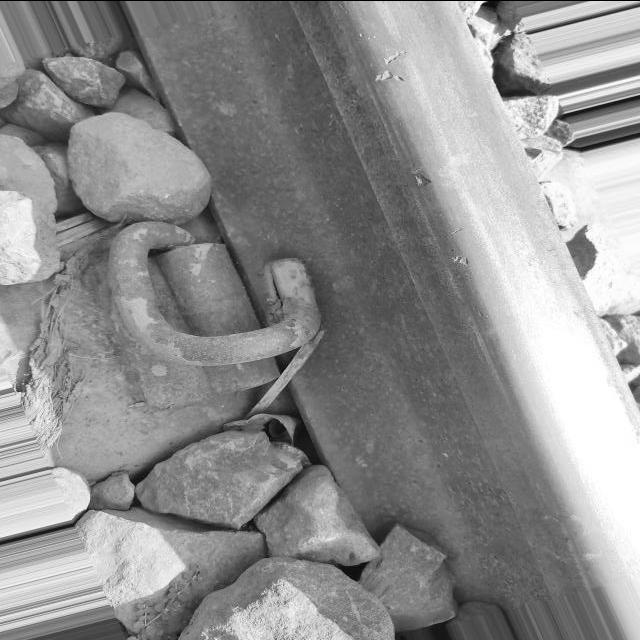squats_high: (376, 50, 407, 83), (453, 251, 472, 265), (414, 173, 430, 185)
